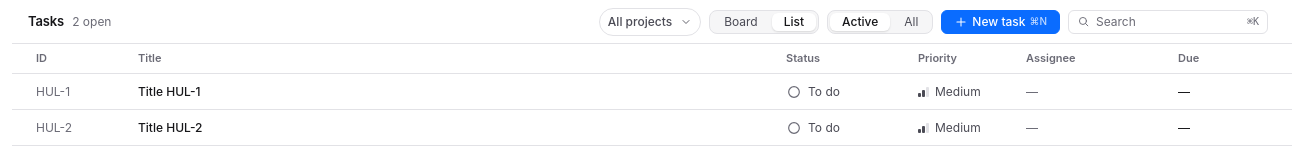
Test: Tasks project filter › has no native select and opens the shared popover with a check on the current filter
This screenshot has width=1304, height=163.
Click the button "All projects".
click(650, 22)  # box x1=599 y1=8 x2=701 y2=36
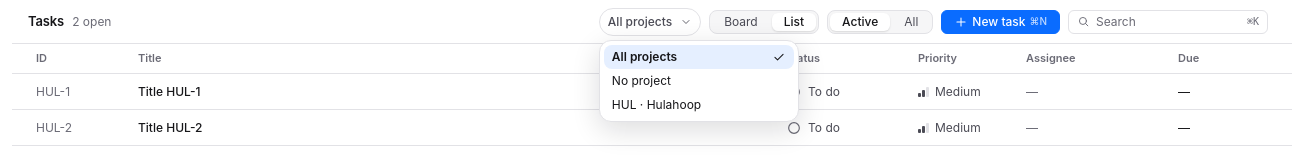
Check: the element with class "sel-pop" is shown, box x1=599 y1=40 x2=799 y2=122
Check: the option "No project" is shown, box x1=612 y1=72 x2=671 y2=88
